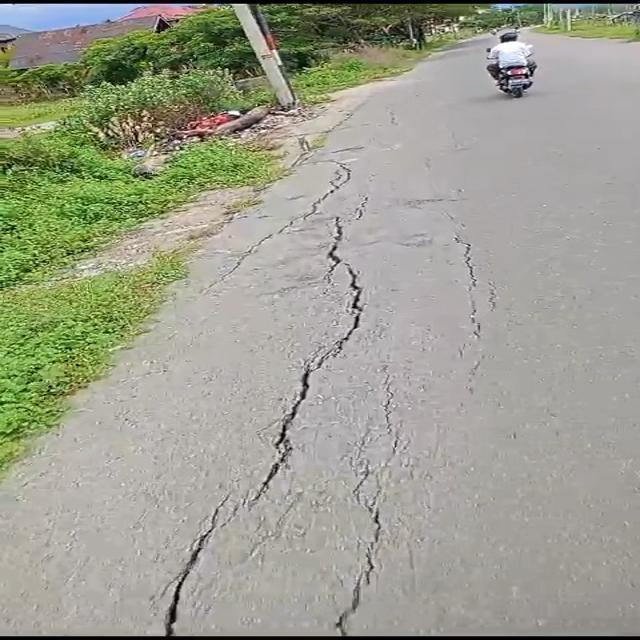Memanjang: (147, 210, 377, 640), (325, 463, 403, 640)
